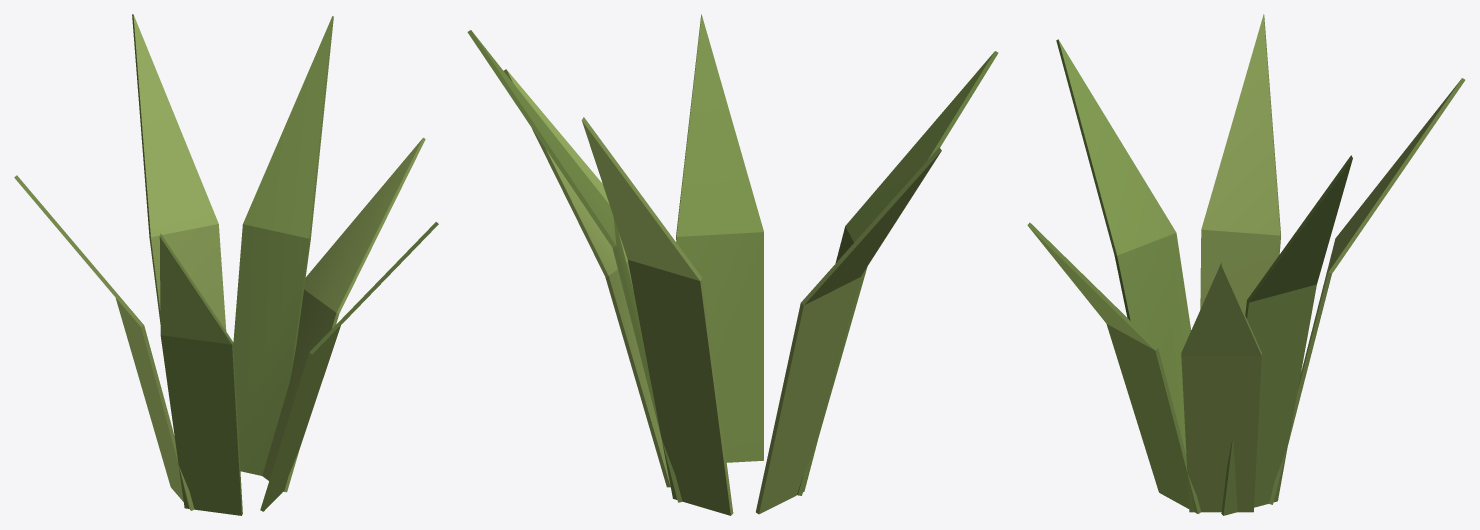
File: grass_clump.glb
3 views of the same model, side by side, from view 1: azimuth 30°, elevation 25°; view 2: azimuth 150°, elevation 25°; view 3: azimuth 270°, elevation 25° (orthographic). The views are drawn at different scales.
Parts seen in each view (by area): view 1: grass_clump; view 2: grass_clump; view 3: grass_clump.
Part boxes in pixels (<box>): grass_clump: <box>14,14,438,515</box>; grass_clump: <box>467,14,998,515</box>; grass_clump: <box>1027,14,1465,515</box>.
Bounding box in the file's own units: 0.2413 × 0.2306 × 0.2177.
